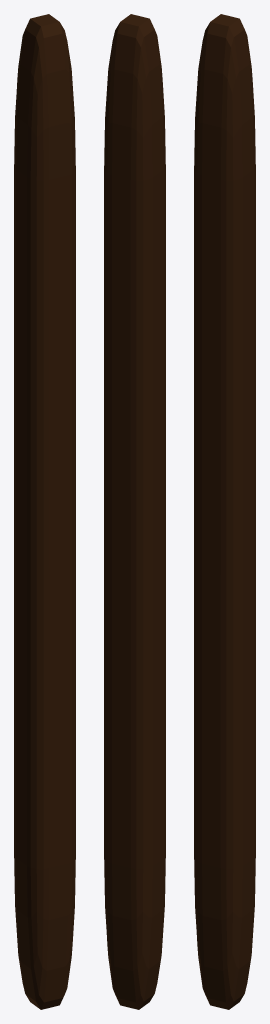
File: PlaceholderStaff.fbx
3 renders of one model, left to right at view 1: azimuth 30°, elevation 25°; view 2: azimuth 150°, elevation 25°; view 3: azimuth 330°, elevation 25°, orthographic.
Visible parts, largest first — view 1: Roundcube; view 2: Roundcube; view 3: Roundcube.
Boxes of the visible parts, x1,y1,x2,y2 form: Roundcube: [14, 14, 75, 1009]; Roundcube: [104, 14, 165, 1009]; Roundcube: [194, 14, 255, 1009].
Size of the model in its own units: 5 by 100 by 5.
